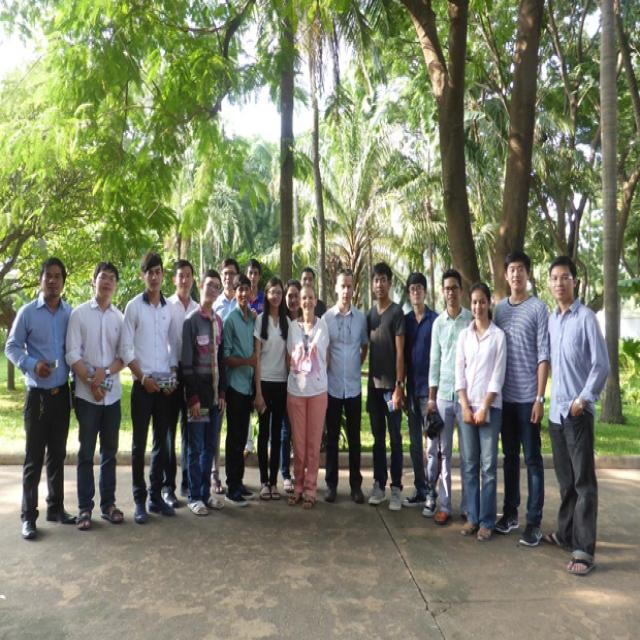body: (3, 256, 80, 541), (544, 254, 611, 576), (491, 247, 552, 548), (116, 251, 182, 524), (65, 259, 127, 531), (421, 267, 482, 524), (452, 280, 507, 543), (396, 270, 447, 518), (318, 266, 369, 506), (180, 268, 226, 518), (363, 260, 408, 512), (159, 259, 202, 513), (284, 281, 327, 510), (221, 273, 261, 508), (252, 273, 292, 500), (210, 256, 242, 494), (278, 279, 304, 493), (243, 256, 266, 458), (296, 266, 327, 318)
